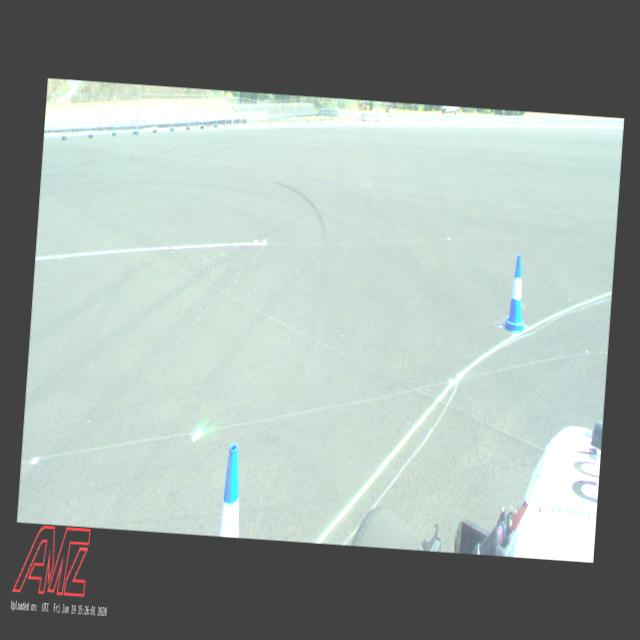blue_cone: (502, 254, 531, 332), (220, 443, 244, 537)
